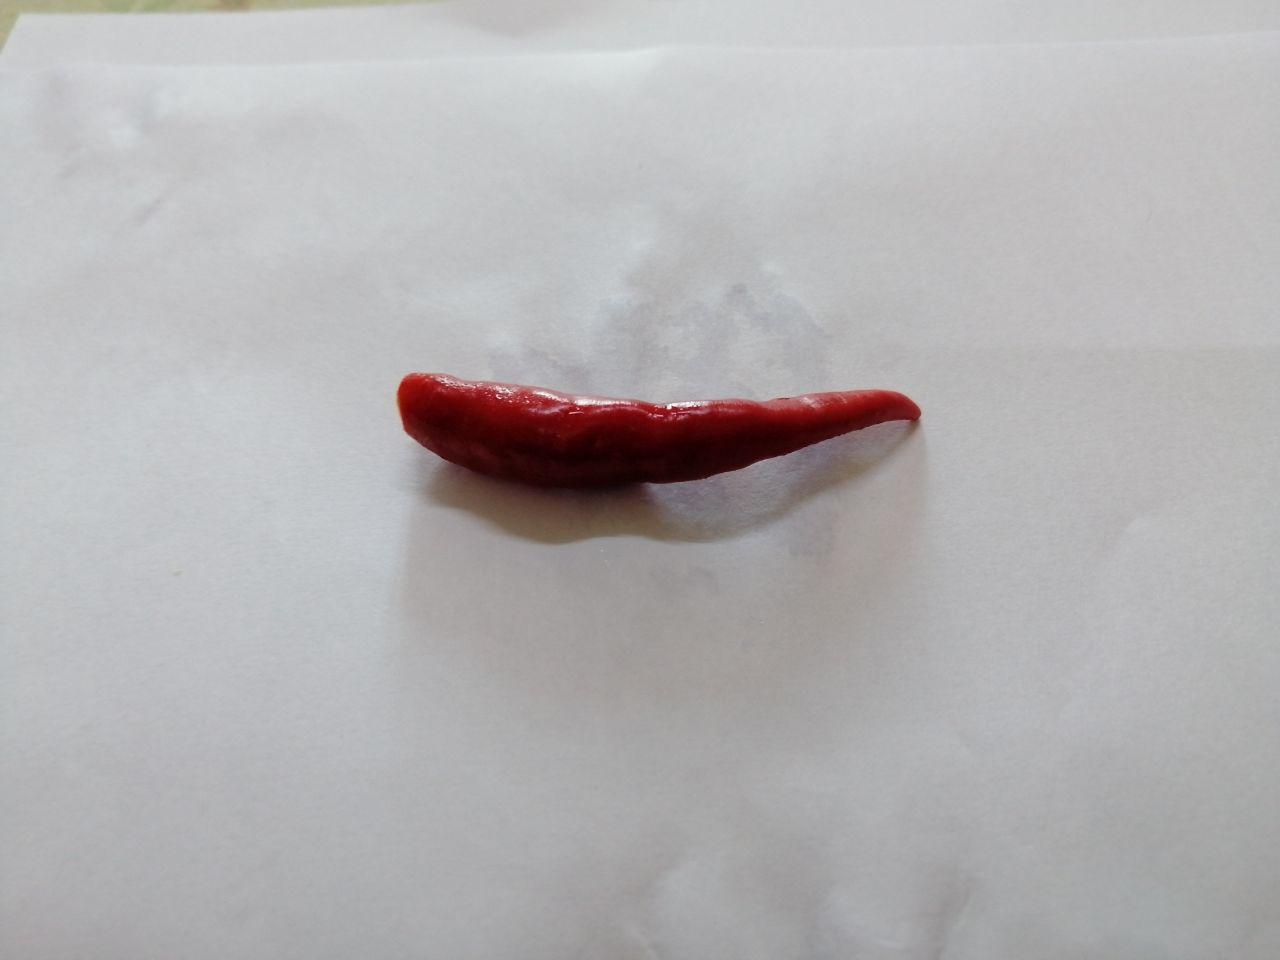lada merah: (366, 340, 946, 534)
